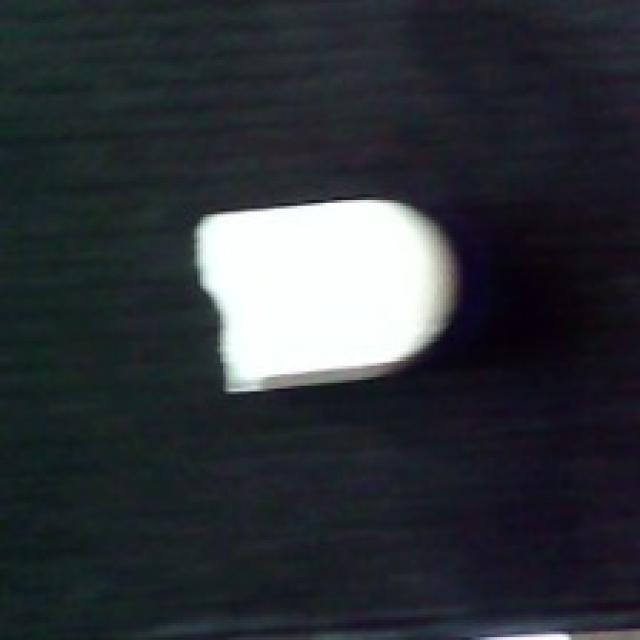defected: (185, 189, 466, 394)
